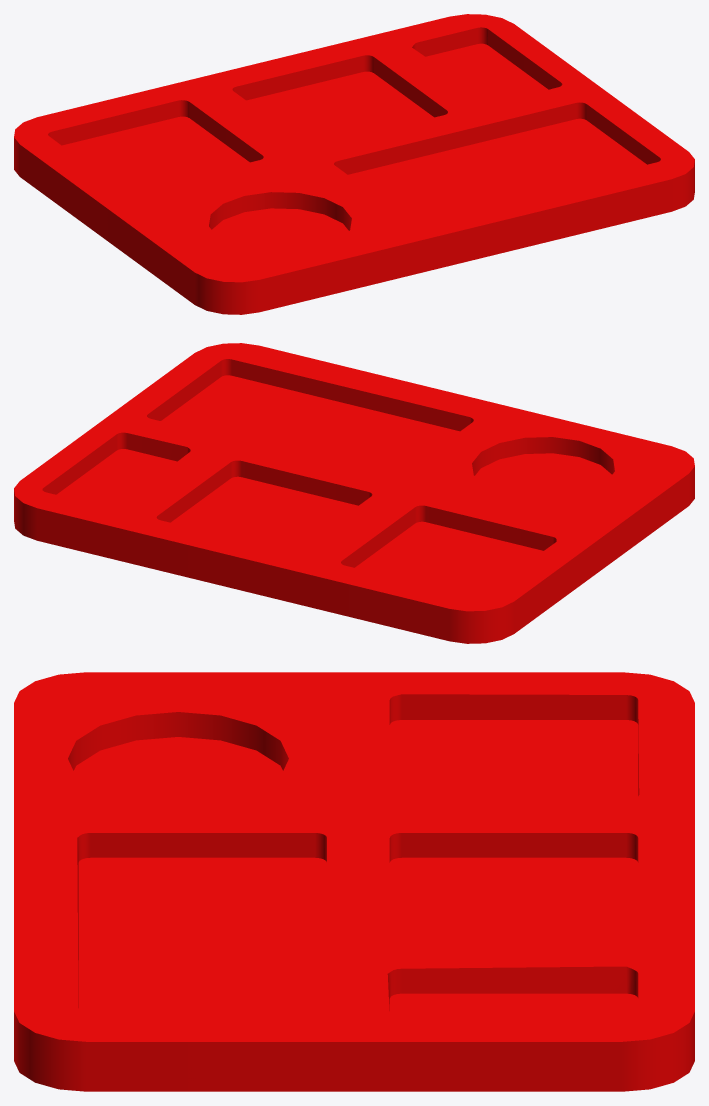
The model's file is plate_red.fbx.
The picture shows the model from 3 angles, top to bottom: view 1: azimuth 30°, elevation 25°; view 2: azimuth 150°, elevation 25°; view 3: azimuth 270°, elevation 25°; orthographic projection. The views are drawn at different scales.
Visible parts, largest first — view 1: plate_red; view 2: plate_red; view 3: plate_red.
Boxes of the visible parts, x1,y1,x2,y2 form: plate_red: [14, 14, 694, 314]; plate_red: [14, 343, 694, 643]; plate_red: [14, 672, 694, 1091].
Size of the model in its own units: 45.38 by 2.85 by 35.34.
1 material, 1 textured.
